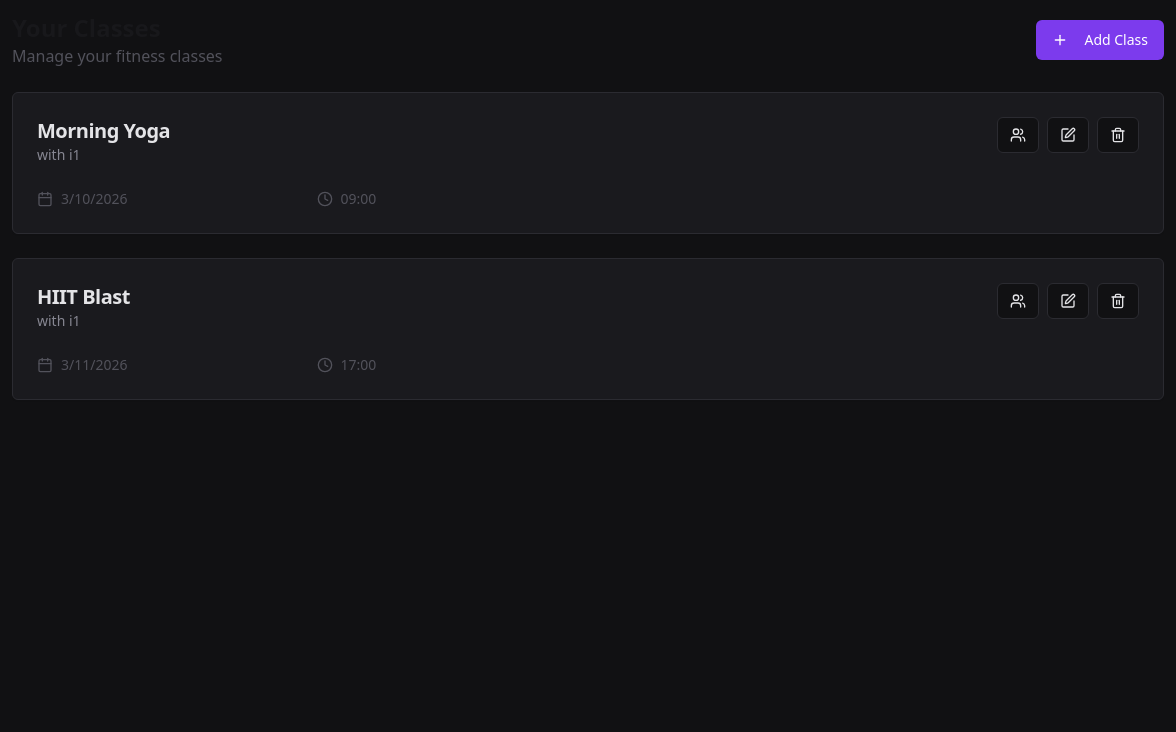
Test: OrganizationClassesDisplay — Add Class › closes form after successful create
Click the button "Add Class". click: click(1100, 40)
box: [1036,20,1164,60]
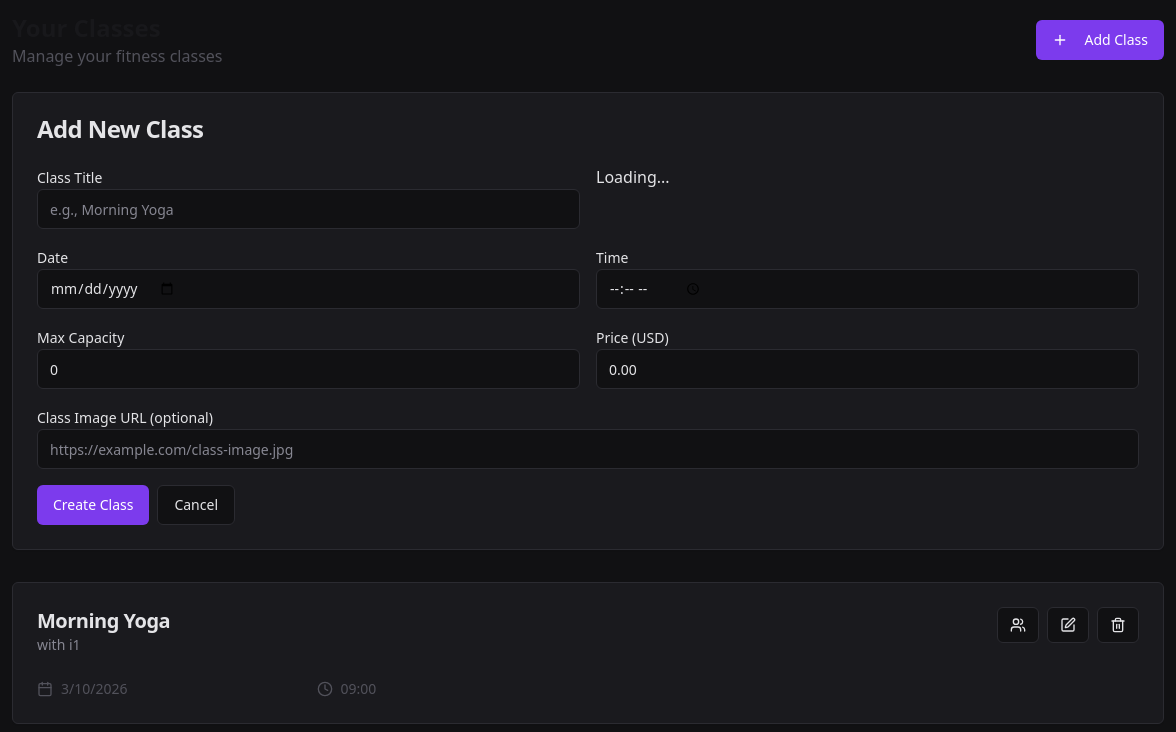
expect the heading "Add New Class" is shown: met, box [37,112,203,145]
Click the button "Cancel". click: click(196, 505)
box: [157,485,235,525]
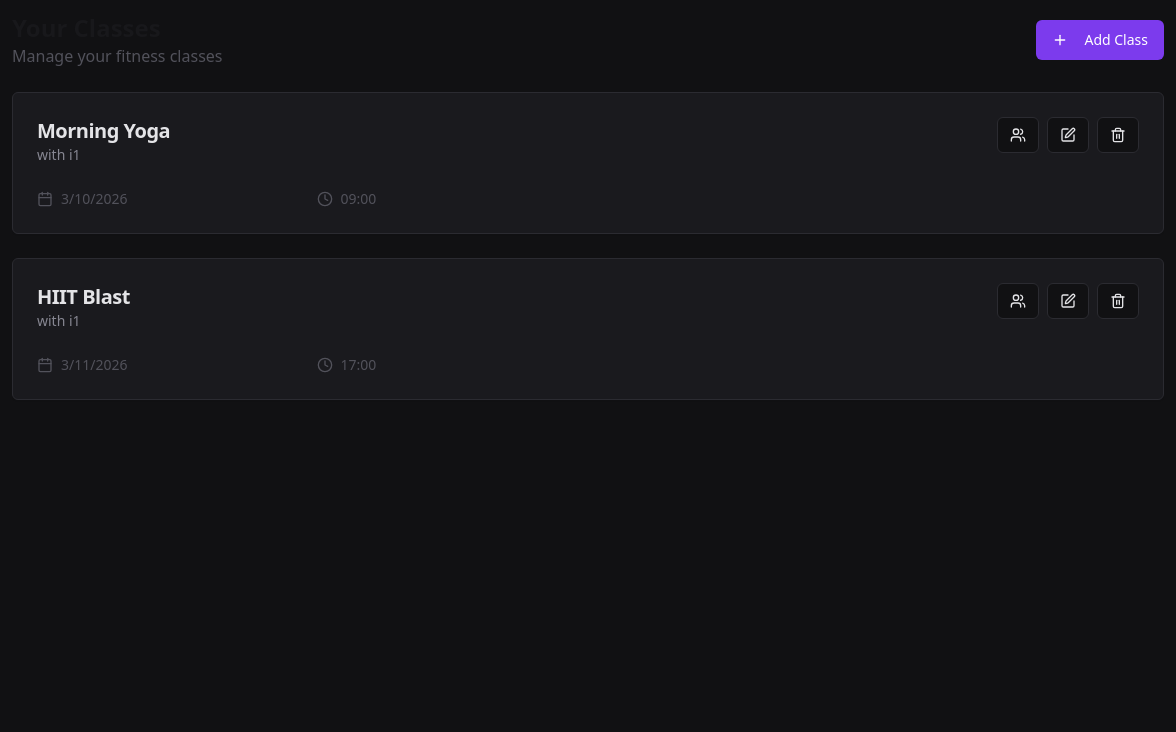
expect the heading "Add New Class" is gone: met
